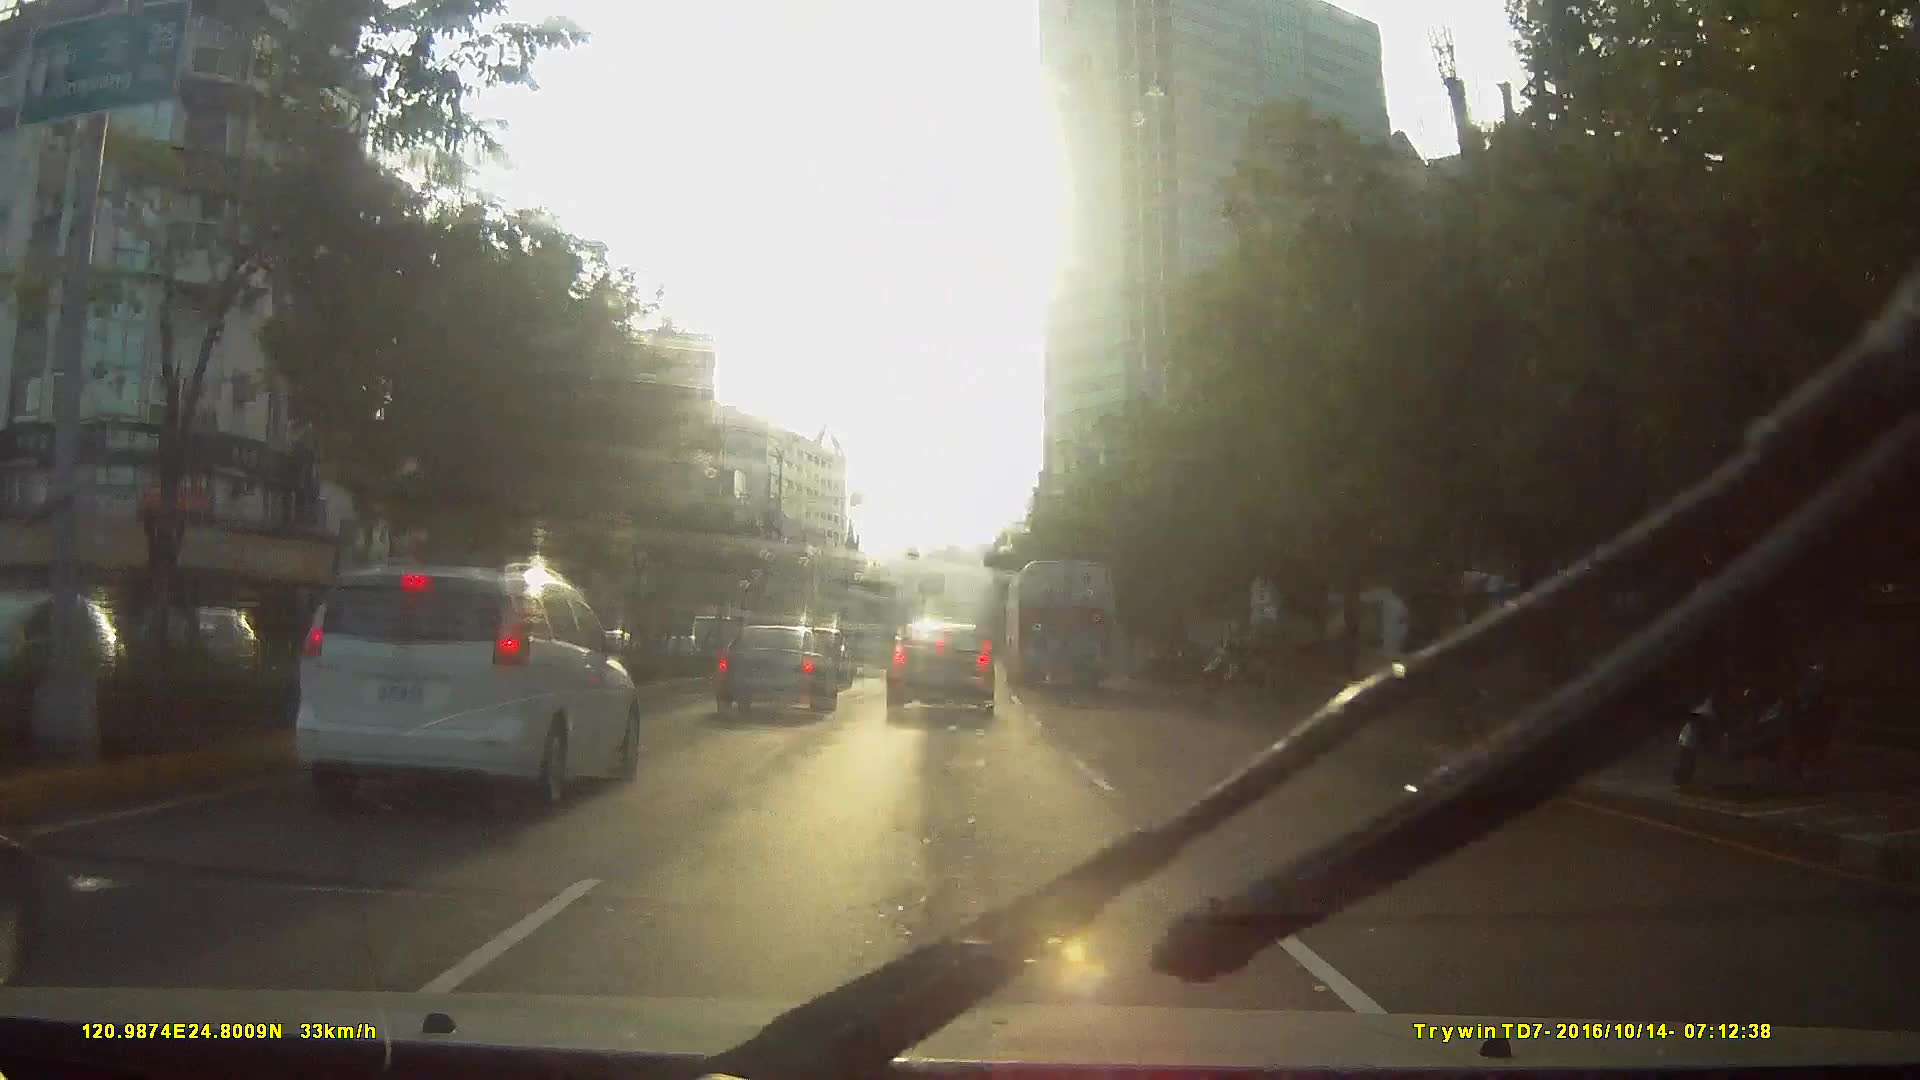vehicle: (251, 556, 684, 868), (280, 556, 651, 819), (1007, 553, 1116, 684), (712, 618, 839, 716), (885, 613, 997, 717), (848, 620, 899, 673)
